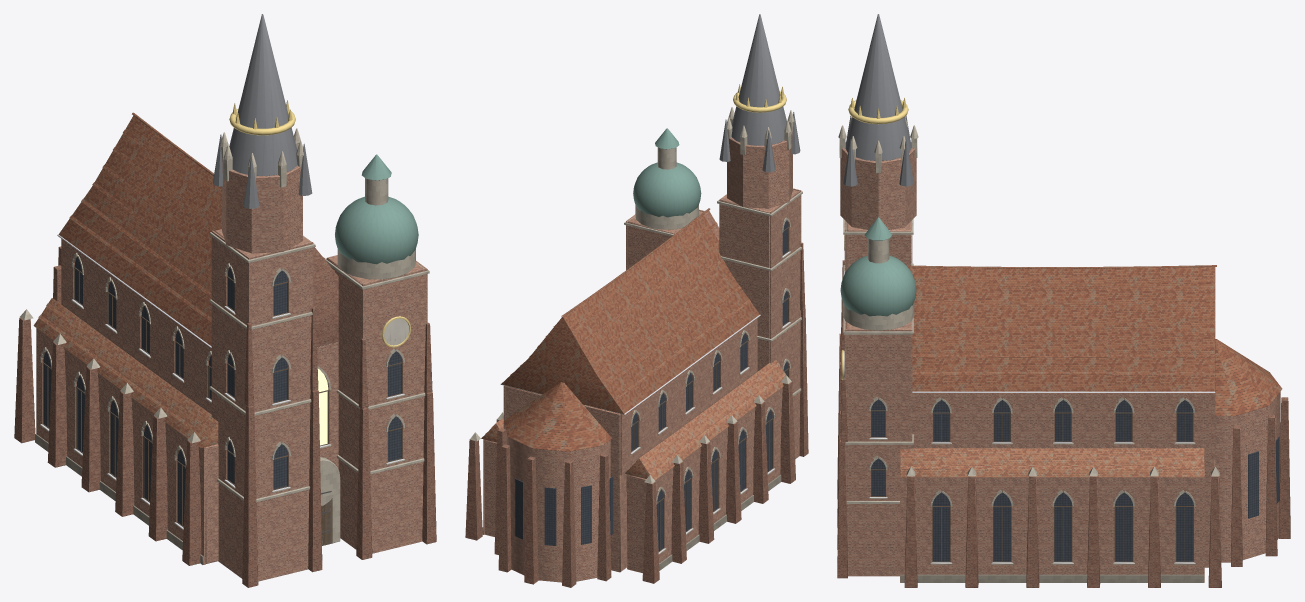
The model's file is st_marys.glb.
3 views of the same model, side by side, from view 1: azimuth 30°, elevation 25°; view 2: azimuth 150°, elevation 25°; view 3: azimuth 270°, elevation 25° (orthographic). The views are drawn at different scales.
Parts seen in each view (by area): view 1: st_marys; view 2: st_marys; view 3: st_marys.
Part boxes in pixels (box(x1,y1,x2,y2)): st_marys: box(14, 14, 436, 587); st_marys: box(465, 14, 808, 587); st_marys: box(837, 14, 1290, 587).
Size of what is drawn, in the model's own units: 22.42 by 50.5 by 41.75.
15 materials, 14 textured.
